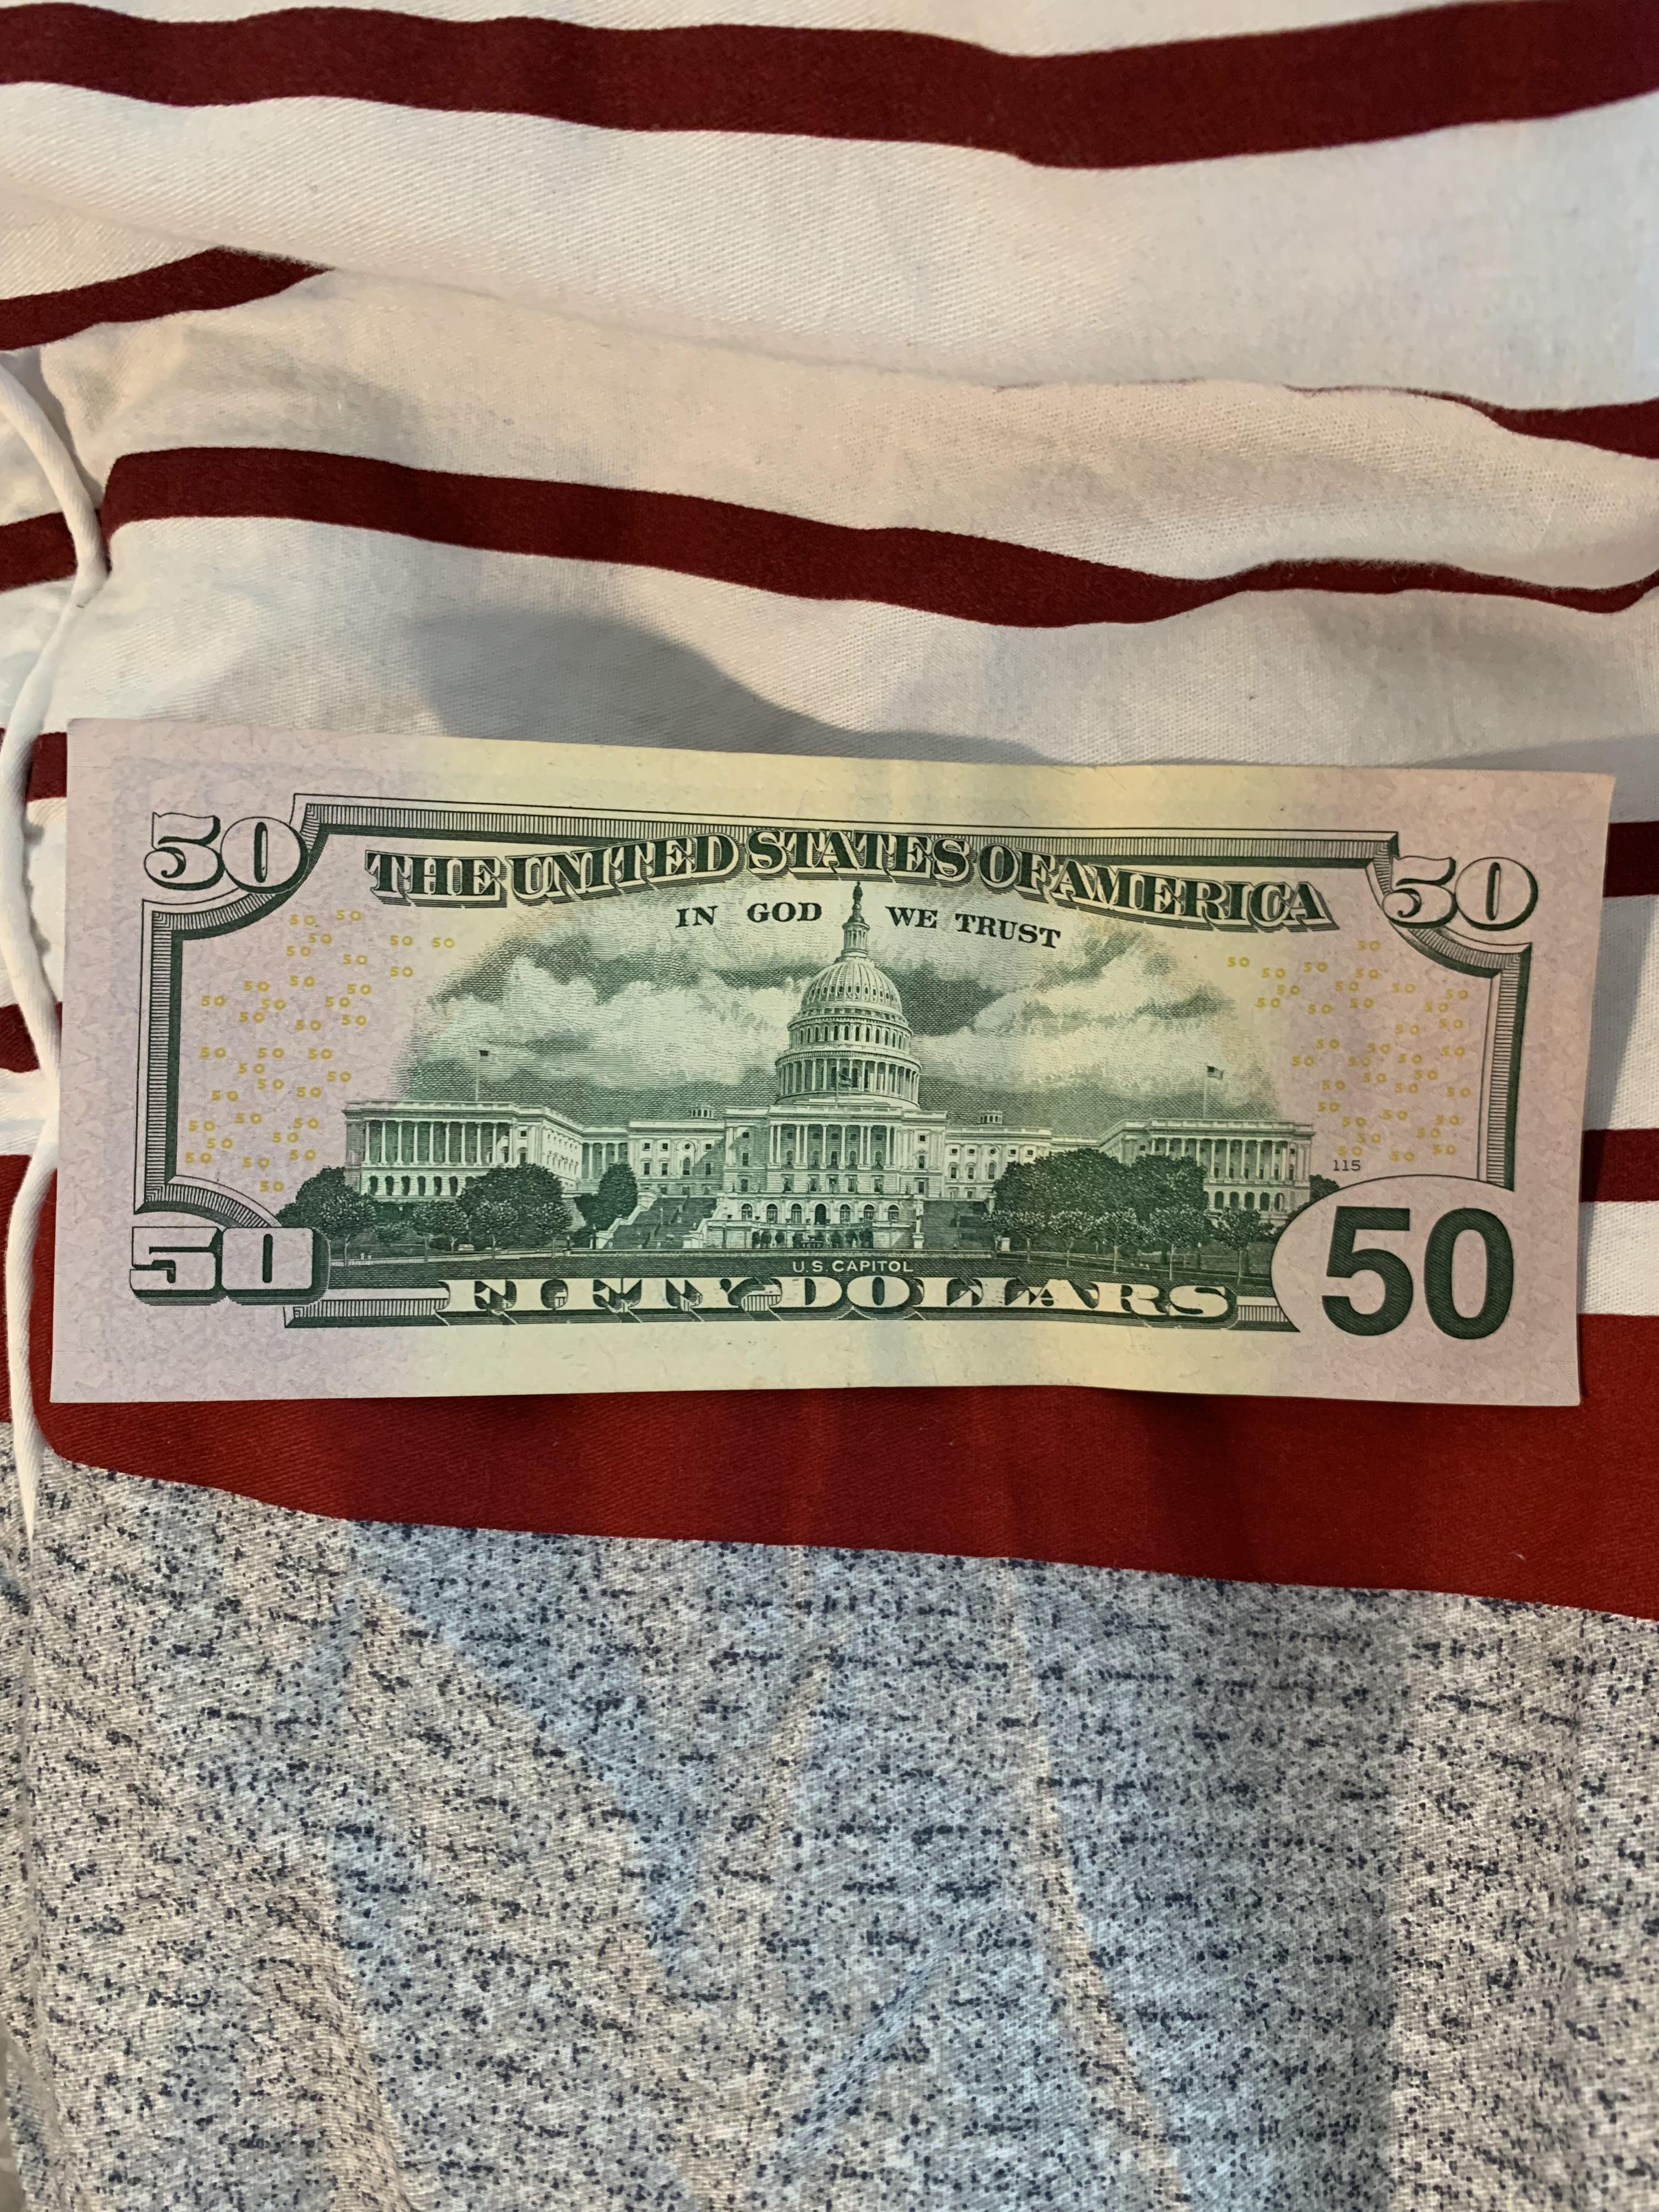FiftyBill: (26, 679, 1635, 1463)
